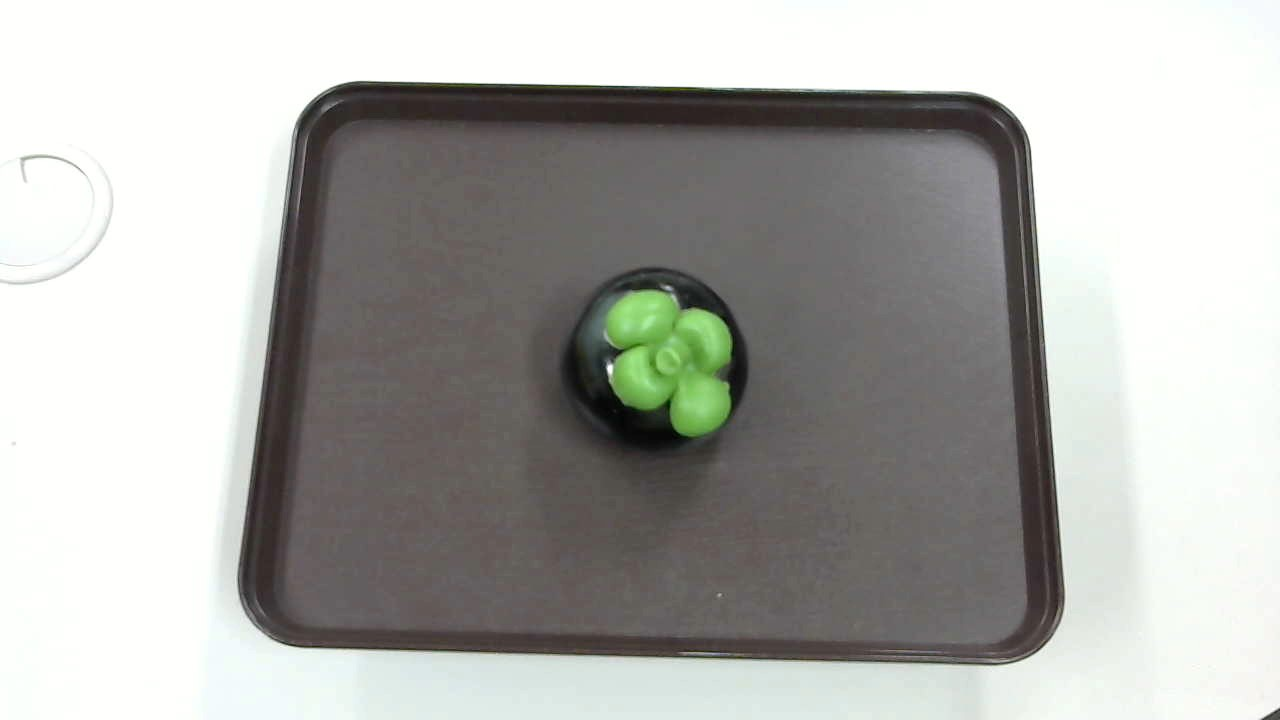mangosteen: (559, 264, 754, 454)
